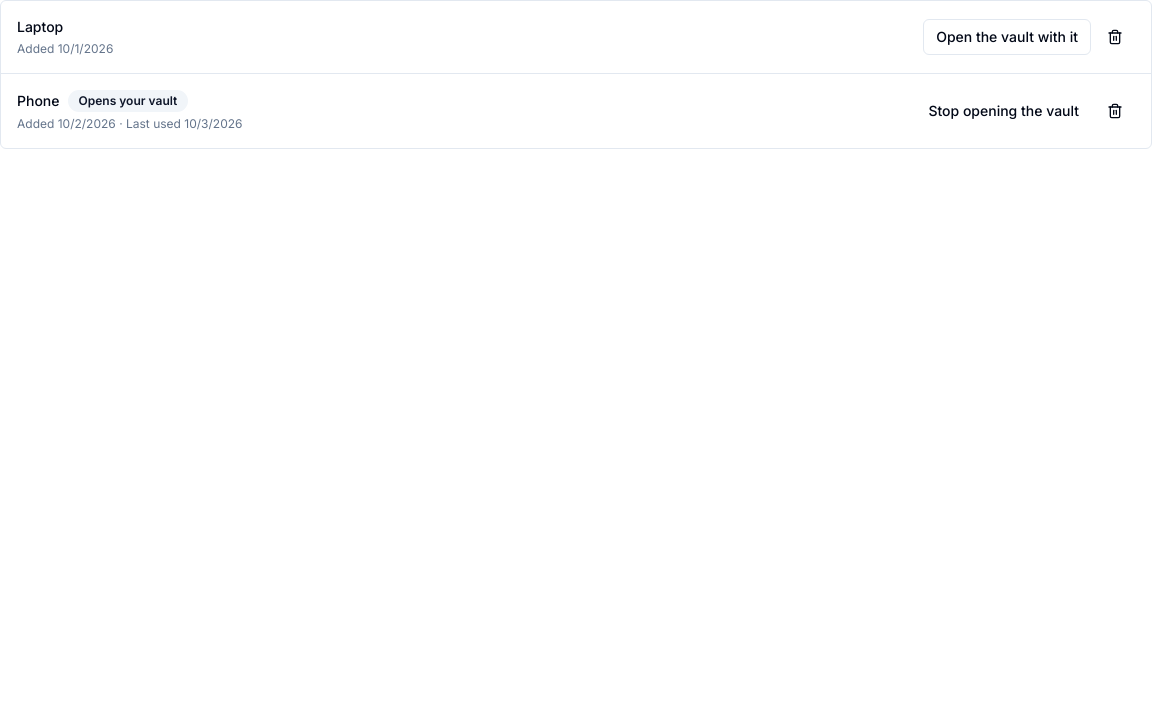
PasskeyList › explains when the device cannot use the passkey to open the vault
Click the button "Open the vault with it": (1007, 37) 923,19 -> 1091,55
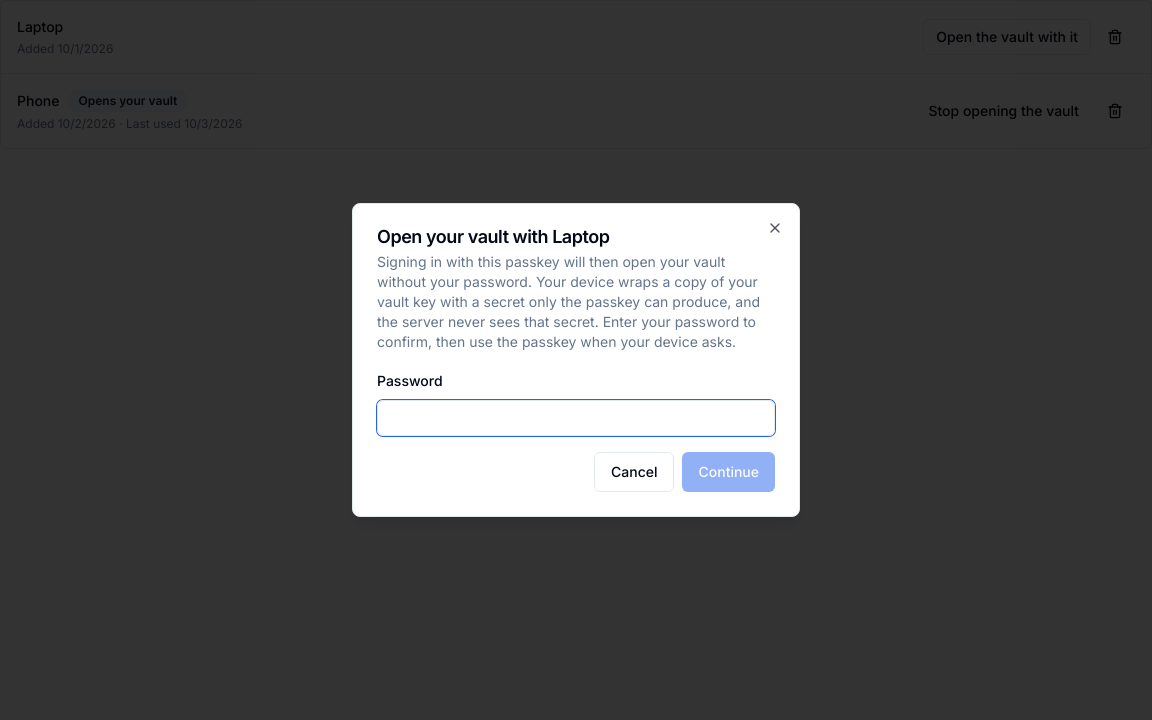
In the password field labelled "Password": (576, 418) 377,400 -> 775,436, type "hunter22-but-longer"
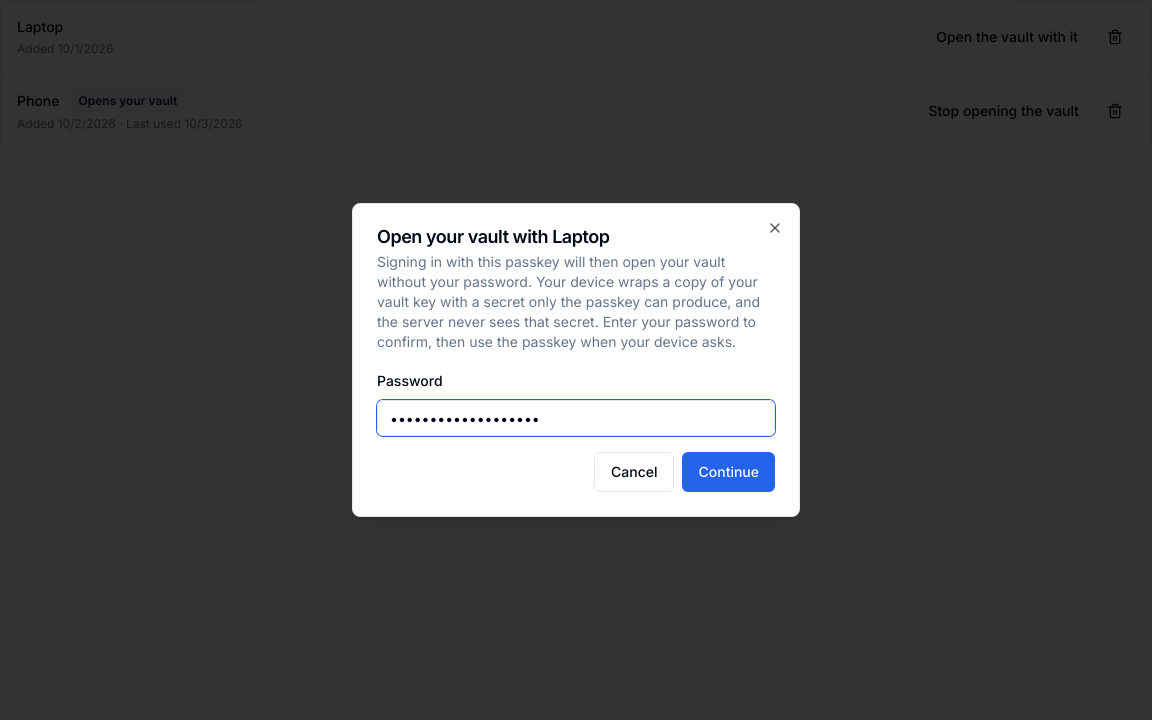
Click the button "Continue": (729, 472) 682,452 -> 775,492
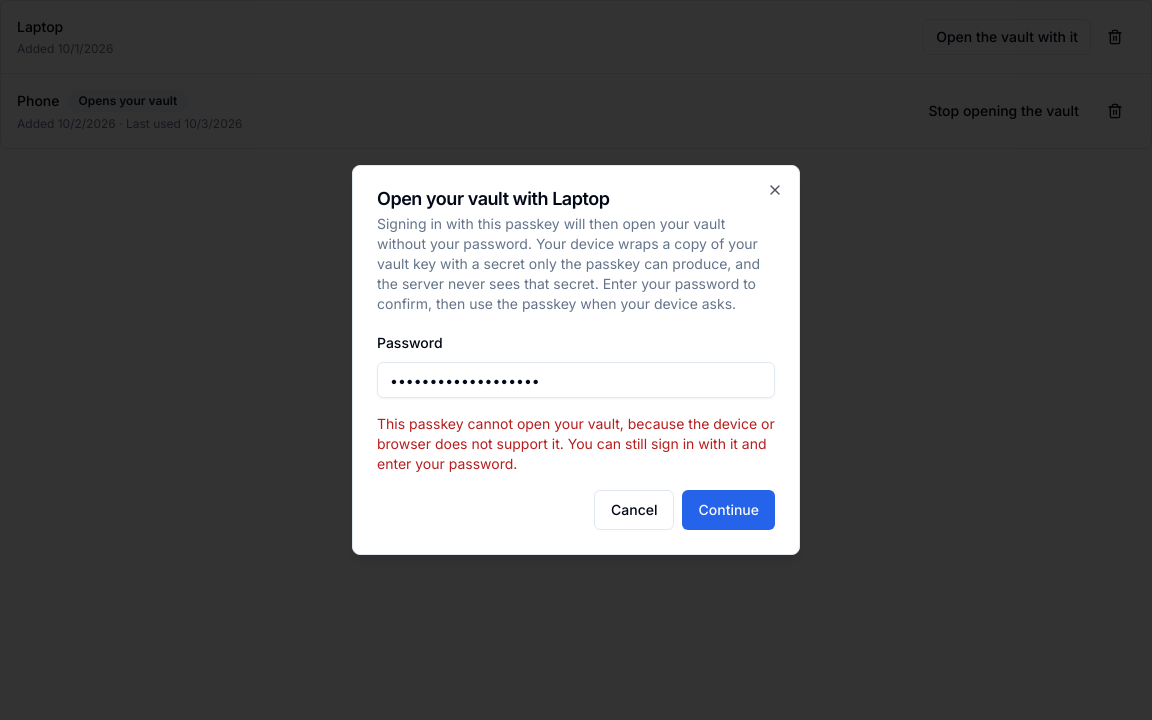
Result: the message shows "does not support it" at 377,415 -> 775,472
